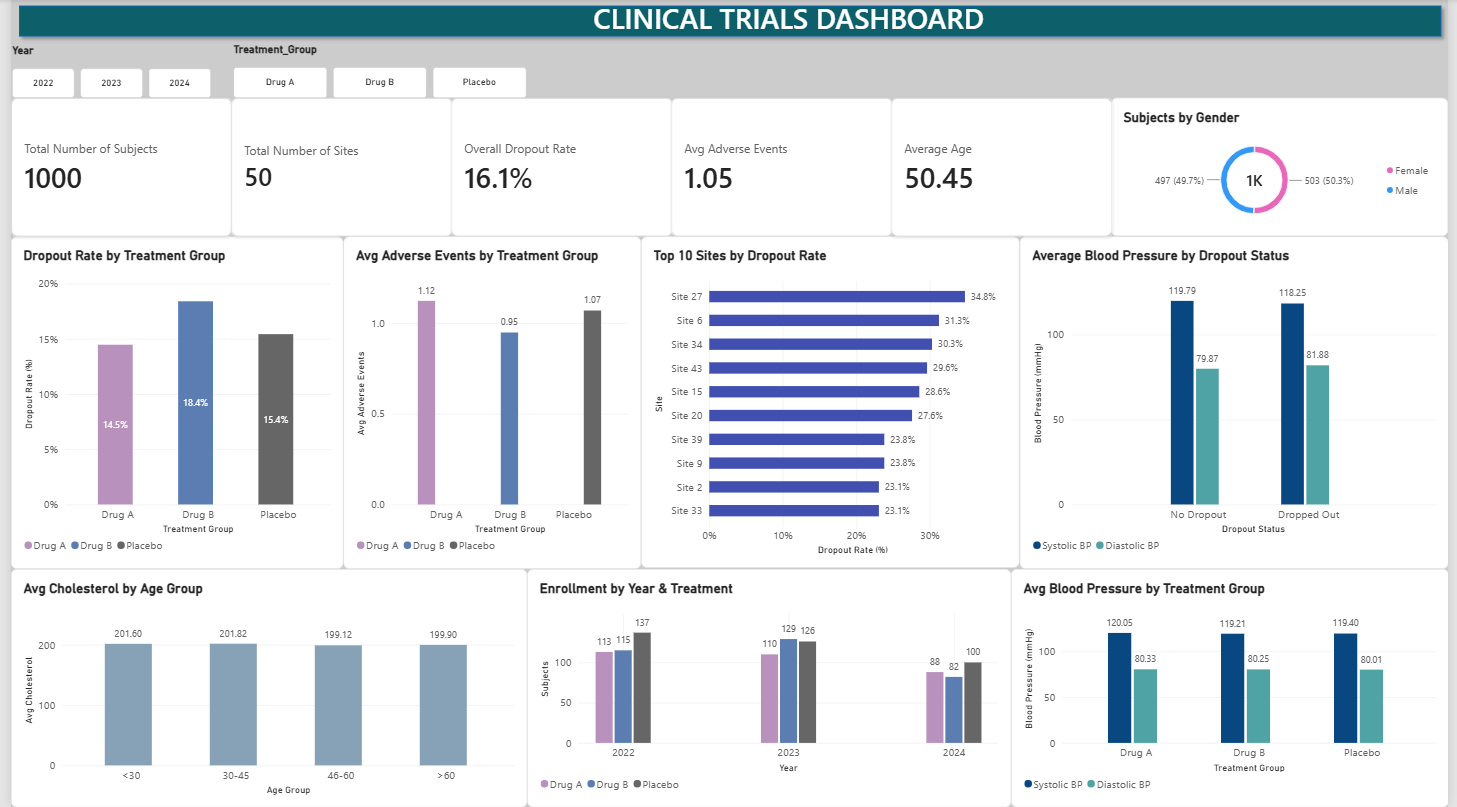

What the dashboard file says about the page in this screenshot:
{"tool":"powerbi","page":{"name":"Page 1","canvas":[1920,1080],"ordinal":0},"visuals":[{"type":"columnChart","fields":{"Category":["Raw Data.Treatment_Group"],"Y":["Raw Data.Dropout Rate"]},"box":[0,318.5,443.4,439.7],"z":0},{"type":"cardVisual","fields":{"Data":["CountNonNull(Raw Data.Site_ID)"]},"box":[0,132.1,296.8,186.4],"z":1000},{"type":"cardVisual","fields":{"Data":["Count(Raw Data.Site_ID)"]},"box":[296.8,132.1,297,186],"z":2000},{"type":"cardVisual","fields":{"Data":["Raw Data.Dropout Rate"]},"box":[593.6,133.9,297,186],"z":3000},{"type":"cardVisual","fields":{"Data":["Raw Data.Avg Adverse Events"]},"box":[890.4,133.9,297,186],"z":4000},{"type":"clusteredColumnChart","fields":{"Category":["Raw Data.Treatment_Group"],"Y":["Raw Data.Avg Adverse Events"]},"box":[443.4,318.5,398.1,439.7],"z":5000},{"type":"columnChart","title":"Top 10 Sites by Dropout Rate","fields":{"Category":["Raw Data.Site_ID"],"Y":["Raw Data.Dropout Rate"]},"box":[841.5,318.5,479.6,439.7],"z":6000},{"type":"textbox","box":[780,12.7,604.4,92.3],"z":7000},{"type":"clusteredBarChart","title":"Subjects Enrolled by Year","fields":{"Category":["Raw Data.Enrollment_Date.Variation.Date Hierarchy.Year"],"Y":["CountNonNull(Raw Data.Subject_ID)"]},"box":[0,758.2,537.5,322.1],"z":8000},{"type":"scatterChart","fields":{"Series":["Raw Data.Dropout Status"],"X":["Raw Data.Age"],"Y":["Raw Data.Cholesterol_Level"]},"box":[537.5,758.2,736.5,322.1],"z":9000},{"type":"donutChart","fields":{"Category":["Raw Data.Gender"],"Y":["CountNonNull(Raw Data.Subject_ID)"]},"box":[1469.4,133.9,436.1,184.6],"z":10000},{"type":"clusteredColumnChart","title":"Average Blood Pressure by Dropout Status","fields":{"Category":["Raw Data.Dropout"],"Y":["Avg(Raw Data.Systolic_BP)","Avg(Raw Data.Diastolic_BP)"]},"box":[1321.1,318.5,571.9,437.9],"z":11000},{"type":"cardVisual","fields":{"Data":["Avg(Raw Data.Age)"]},"box":[1172.7,133.9,296.8,186.4],"z":12000},{"type":"clusteredColumnChart","title":"Enrollment by Year & Treatment","fields":{"Category":["Raw Data.Enrollment_Date.Variation.Date Hierarchy.Year"],"Series":["Raw Data.Treatment_Group"],"Y":["CountNonNull(Raw Data.Subject_ID)"]},"box":[1274,758.2,618.9,322.1],"z":13000},{"type":"advancedSlicerVisual","fields":{"Values":["Raw Data.Enrollment_Date.Variation.Date Hierarchy.Year"]},"box":[1.8,47.1,267.8,72.4],"z":14000}]}

Visuals, with their boxes in screenshot pixels (x1, y1, x2, y2), scaled from the page's 1920x1080 canvas onto the 1457x807 screenshot:
columnChart - Raw Data.Treatment_Group x Raw Data.Dropout Rate: region(0, 238, 336, 567)
cardVisual - CountNonNull(Raw Data.Site_ID): region(0, 99, 225, 238)
cardVisual - Count(Raw Data.Site_ID): region(225, 99, 451, 238)
cardVisual - Raw Data.Dropout Rate: region(450, 100, 676, 239)
cardVisual - Raw Data.Avg Adverse Events: region(676, 100, 901, 239)
clusteredColumnChart - Raw Data.Treatment_Group x Raw Data.Avg Adverse Events: region(336, 238, 639, 567)
"Top 10 Sites by Dropout Rate" columnChart: region(639, 238, 1003, 567)
textbox: region(592, 9, 1051, 78)
"Subjects Enrolled by Year" clusteredBarChart: region(0, 567, 408, 806)
scatterChart - Raw Data.Dropout Status x Raw Data.Age: region(408, 567, 967, 806)
donutChart - Raw Data.Gender x CountNonNull(Raw Data.Subject_ID): region(1115, 100, 1446, 238)
"Average Blood Pressure by Dropout Status" clusteredColumnChart: region(1003, 238, 1437, 565)
cardVisual - Avg(Raw Data.Age): region(890, 100, 1115, 239)
"Enrollment by Year & Treatment" clusteredColumnChart: region(967, 567, 1436, 806)
advancedSlicerVisual - Raw Data.Enrollment_Date.Variation.Date Hierarchy.Year: region(1, 35, 205, 89)
